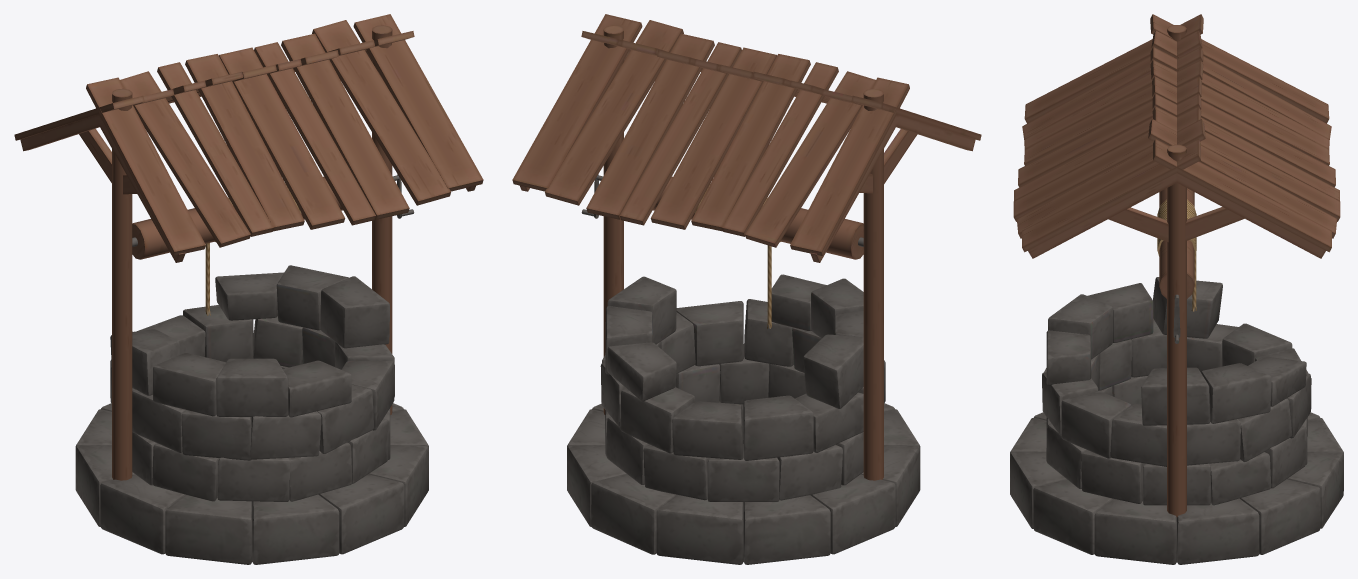
The model's file is well_3.glb.
The picture shows the model from 3 angles, left to right: view 1: azimuth 30°, elevation 25°; view 2: azimuth 150°, elevation 25°; view 3: azimuth 270°, elevation 25°; orthographic projection. The views are drawn at different scales.
Visible parts, largest first — view 1: StoneBase, Roof, Poles, Winch; view 2: StoneBase, Roof, Poles, Winch; view 3: StoneBase, Roof, Poles, Winch.
Part boxes in pixels (x1,y1,x2,y2): StoneBase: (75,265,428,564); Roof: (14,14,483,262); Poles: (79,25,392,480); Winch: (132,176,342,259); StoneBase: (567,274,920,564); Roof: (512,14,981,262); Poles: (603,25,917,480); Winch: (653,176,863,259); StoneBase: (1010,277,1343,564); Roof: (1013,14,1340,258); Poles: (1108,25,1244,517); Winch: (1157,188,1196,298).
Size of the model in its own units: 186 by 243 by 179.
1 material, 1 textured.
